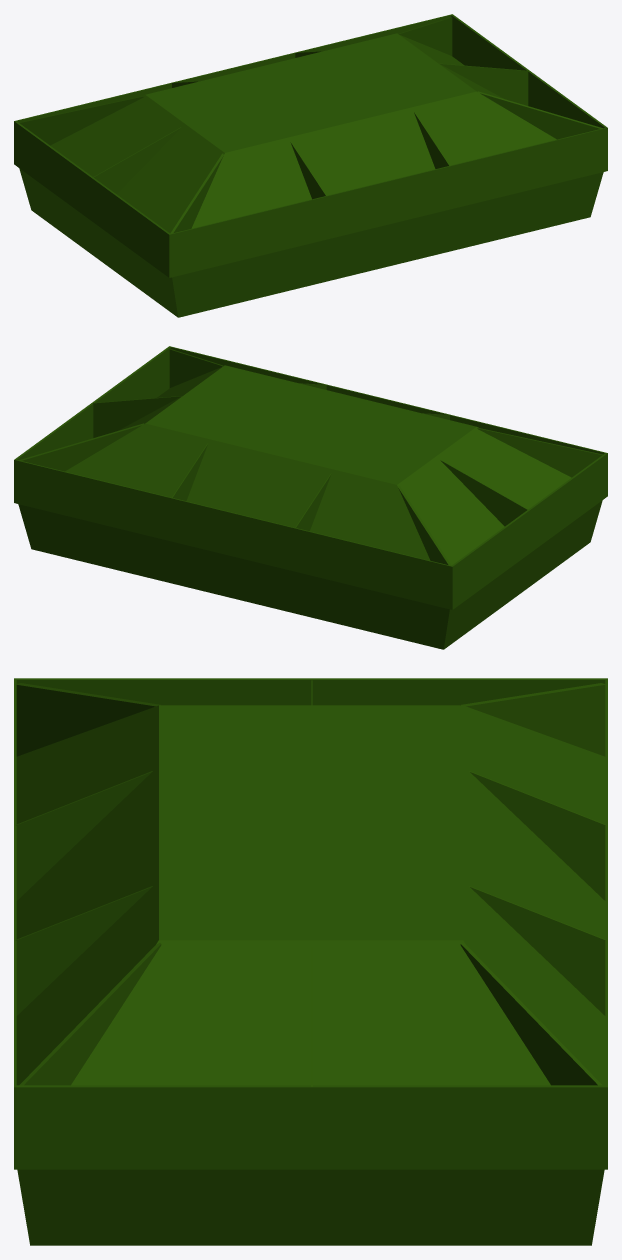
File: fruit_standdotefbeeex.fbx
3 renders of one model, top to bottom at view 1: azimuth 30°, elevation 25°; view 2: azimuth 150°, elevation 25°; view 3: azimuth 270°, elevation 25°, orthographic. The views are drawn at different scales.
Visible parts, largest first — view 1: Cube.004; view 2: Cube.004; view 3: Cube.004.
Boxes of the visible parts, x1,y1,x2,y2 form: Cube.004: (14,14,607,317); Cube.004: (14,346,607,649); Cube.004: (14,678,607,1245).
Size of the model in its own units: 707 by 186 by 434.
